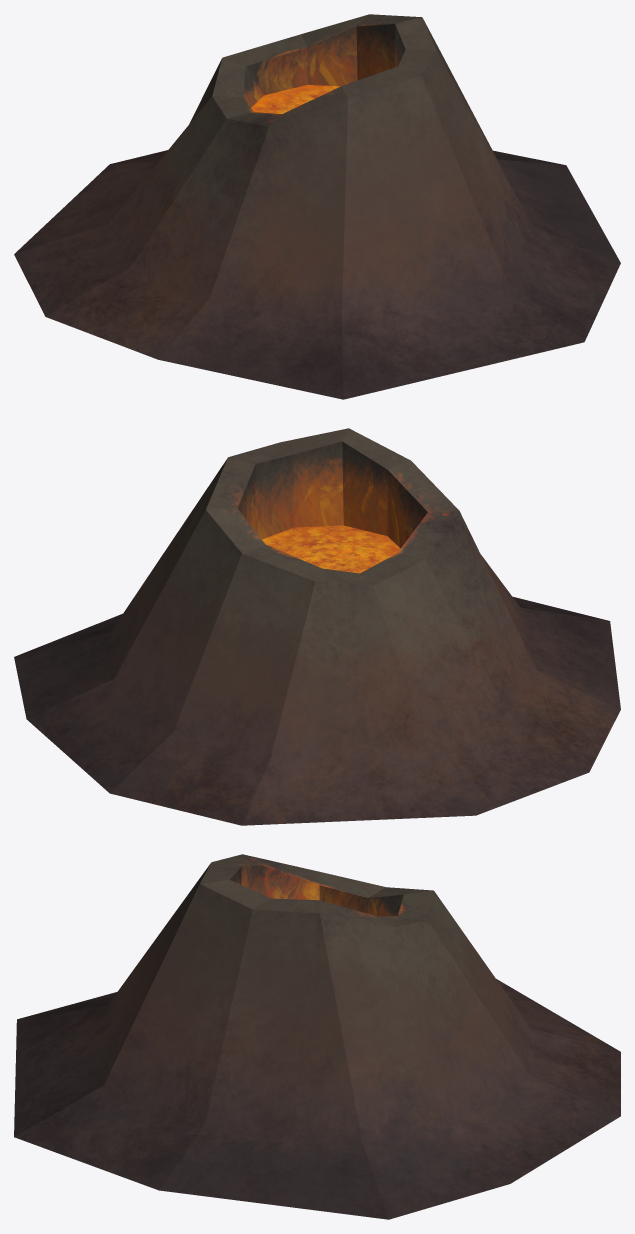
The model's file is volcano_002.obj.
The picture shows the model from 3 angles, top to bottom: view 1: azimuth 30°, elevation 25°; view 2: azimuth 150°, elevation 25°; view 3: azimuth 270°, elevation 25°; orthographic projection.
Parts seen in each view (by area): view 1: volcano_002_GEO; view 2: volcano_002_GEO; view 3: volcano_002_GEO.
Part boxes in pixels (<box>): volcano_002_GEO: <box>14,14,620,399</box>; volcano_002_GEO: <box>14,428,620,825</box>; volcano_002_GEO: <box>14,854,620,1219</box>.
Size of the model in its own units: 7.95 by 3.01 by 7.59.
Materials: 1 (1 with a texture image).
